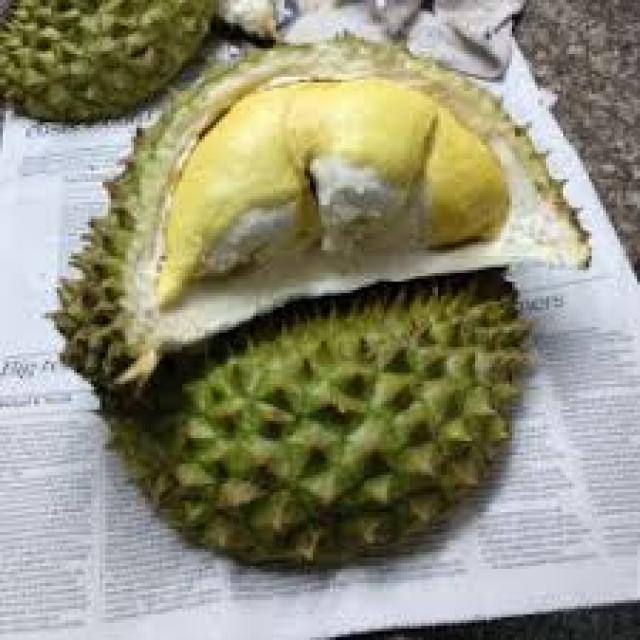biodegradable: (43, 26, 592, 393), (91, 262, 532, 563), (148, 71, 318, 302), (273, 71, 432, 250), (0, 0, 216, 117), (410, 106, 506, 251), (216, 0, 276, 34)
paper: (521, 262, 637, 612), (0, 554, 466, 637), (0, 105, 51, 555), (49, 384, 100, 563), (470, 472, 524, 620), (94, 455, 119, 563), (117, 507, 157, 564), (154, 538, 191, 563)
